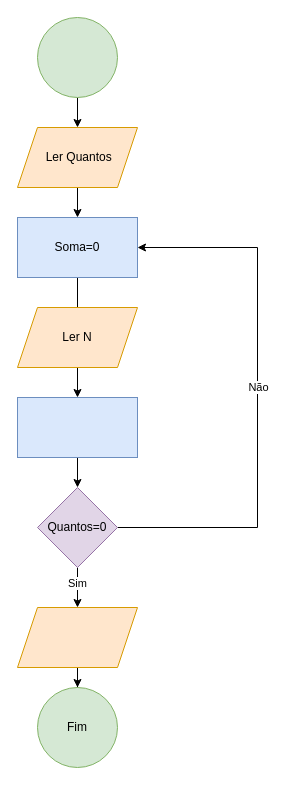
Image size: 285x785. Some labels were removed from this diagram. Here are the shapes that lost their labels. From the top down, the centre of each, then its label:
At pixel 77 57: "Início".
At pixel 77 427: "Soma=Soma+N Quanto=quantos + 1".
At pixel 77 637: "Escrever Soma".
